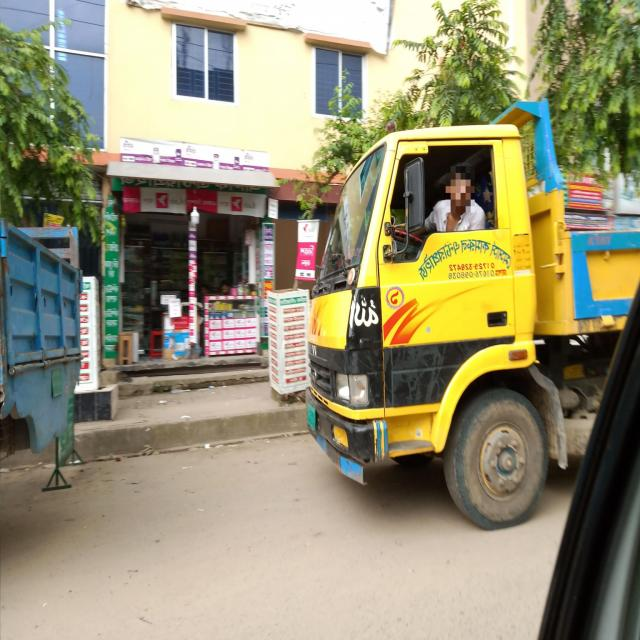truck: (295, 81, 640, 527)
